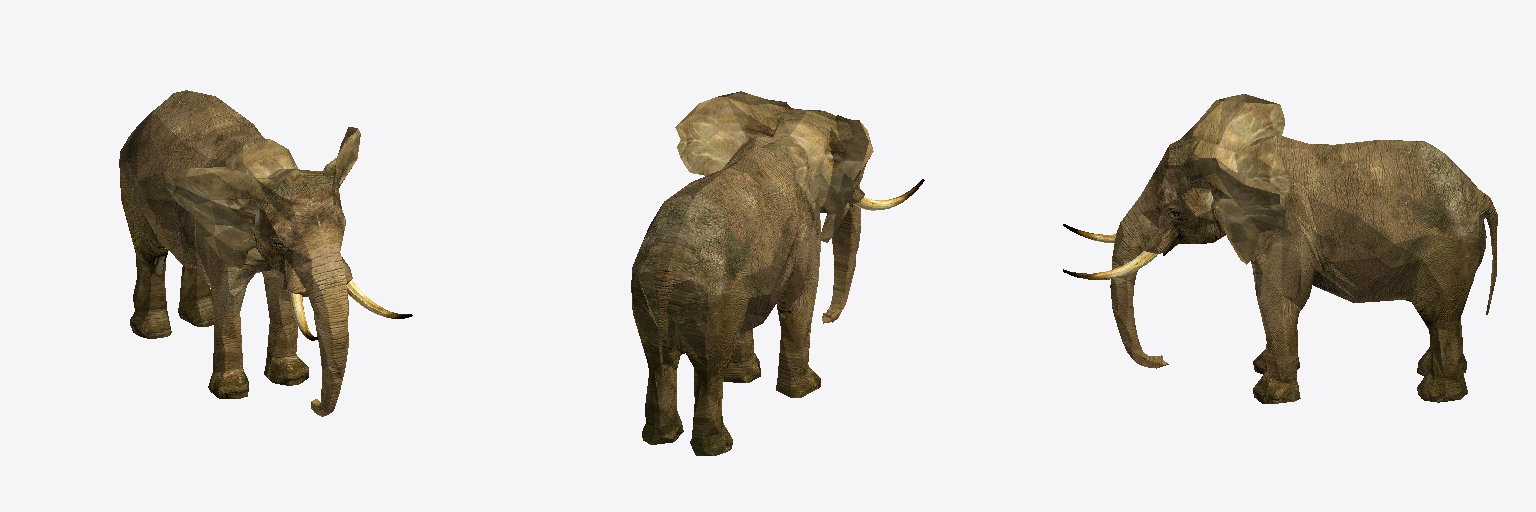
The picture shows the model from 3 angles: view 1: azimuth 30°, elevation 25°; view 2: azimuth 150°, elevation 25°; view 3: azimuth 270°, elevation 25°; orthographic projection.
Size of the model in its own units: 1.72 by 2.25 by 3.49.
Materials: 2 (1 with a texture image).